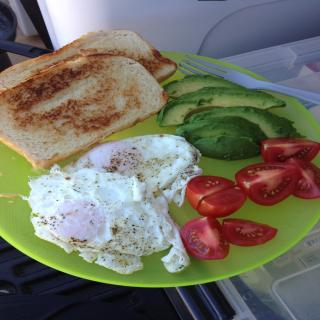tomato: (236, 160, 306, 207), (186, 177, 248, 219), (180, 220, 233, 258), (219, 216, 280, 247), (282, 156, 320, 200), (260, 138, 320, 162)
